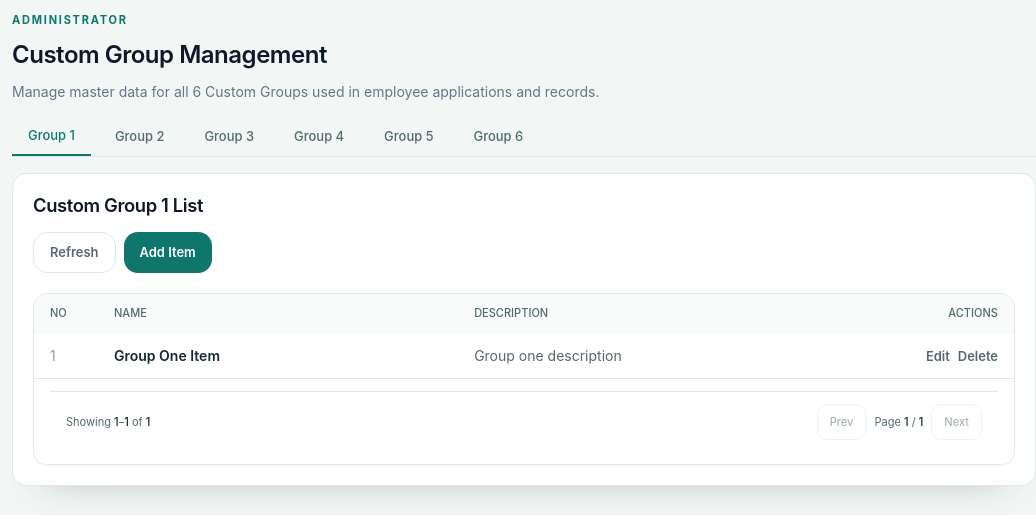
Test: admin pages unit › switches custom group tabs and loads data for the active tab
Click the tab "Group 2". click: (140, 137)
box: [99,118,180,156]
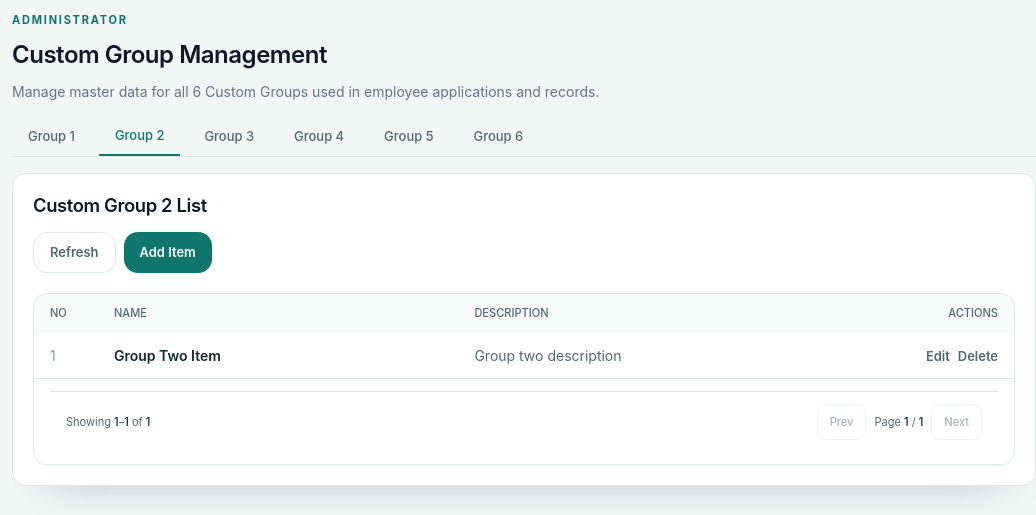
expect the text "Group Two Item" is shown: met, box [114,347,221,364]
